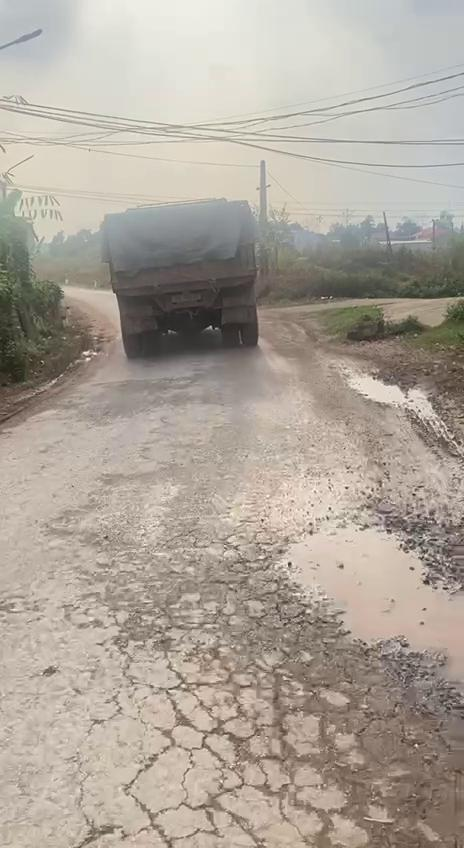pothole: (280, 510, 464, 710)
